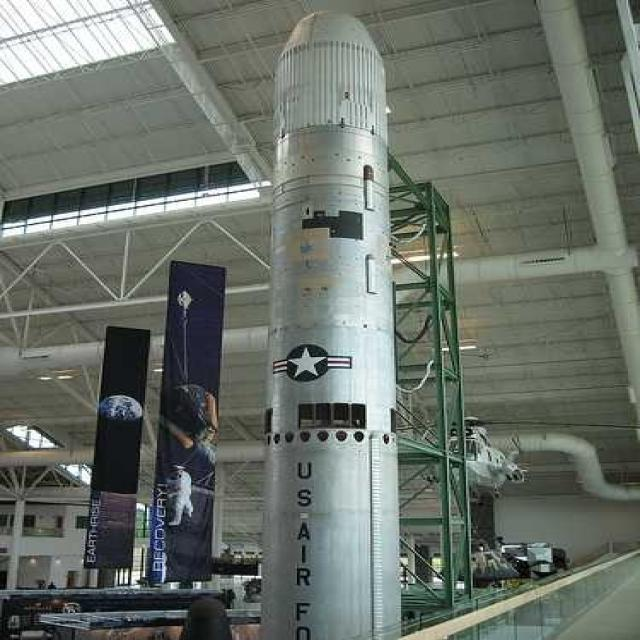missile: (249, 4, 411, 640)
